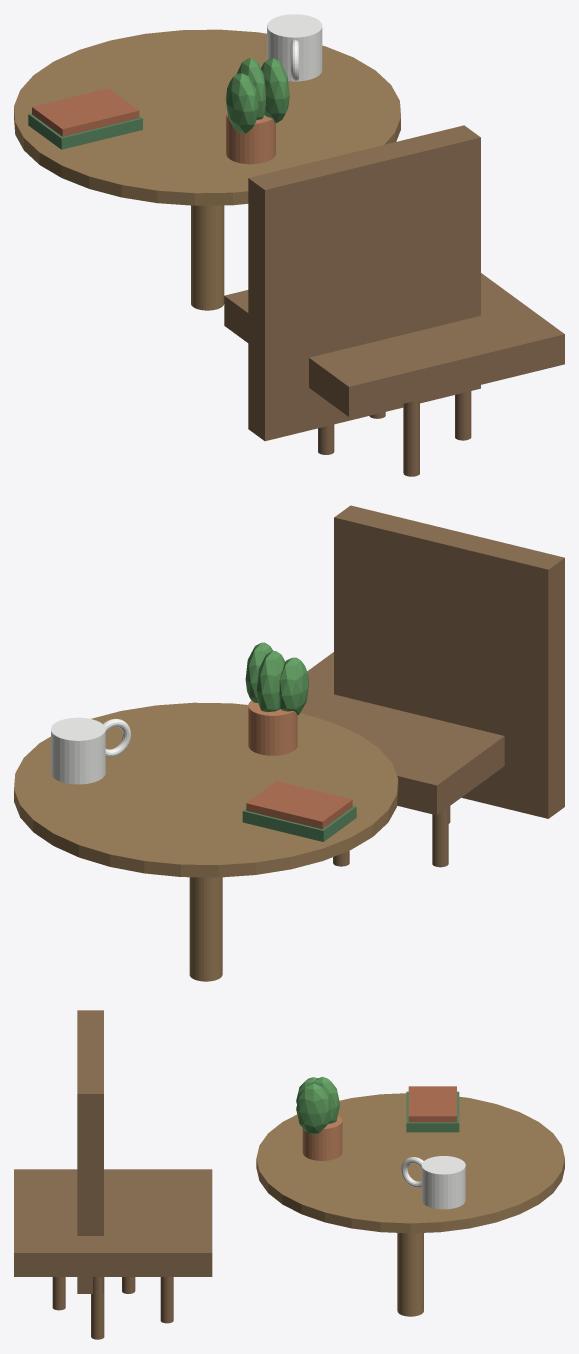
Rendered from DiningSet.glb.
3 renders of one model, top to bottom at view 1: azimuth 30°, elevation 25°; view 2: azimuth 150°, elevation 25°; view 3: azimuth 270°, elevation 25°, orthographic. The views are drawn at different scales.
Visible parts, largest first — view 1: ChairBack, TableTop, ChairSeat, TableLeg, Book2, Cup, Pot, Leaf3, Book1, Leaf2, ChairLeg2, ChairLeg4 (+1 smaller); view 2: ChairBack, TableTop, ChairSeat, TableLeg, Cup, Book2, Pot, Book1, Leaf3, Leaf1, ChairLeg1, Leaf2; view 3: TableTop, ChairSeat, ChairBack, Cup, TableLeg, Book2, Leaf2, Pot, ChairLeg4, Book1, ChairLeg3, Leaf1 (+1 smaller).
Boxes of the visible parts, bbox=[...] form: ChairBack: bbox=[248, 125, 480, 441]; TableTop: bbox=[14, 29, 400, 205]; ChairSeat: bbox=[224, 273, 564, 416]; TableLeg: bbox=[191, 205, 224, 310]; Book2: bbox=[32, 88, 139, 136]; Cup: bbox=[267, 14, 322, 81]; Pot: bbox=[226, 111, 275, 164]; Leaf3: bbox=[225, 73, 258, 133]; Book1: bbox=[28, 113, 142, 149]; Leaf2: bbox=[261, 58, 289, 123]; ChairLeg2: bbox=[403, 400, 419, 476]; ChairLeg4: bbox=[455, 391, 471, 440]; ChairBack: bbox=[334, 505, 564, 818]; TableTop: bbox=[14, 702, 398, 877]; ChairSeat: bbox=[300, 652, 504, 815]; TableLeg: bbox=[189, 877, 222, 981]; Cup: bbox=[51, 717, 105, 784]; Book2: bbox=[246, 781, 352, 829]; Pot: bbox=[248, 700, 297, 755]; Book1: bbox=[242, 806, 356, 841]; Leaf3: bbox=[279, 657, 308, 714]; Leaf1: bbox=[256, 650, 285, 711]; ChairLeg1: bbox=[432, 807, 448, 867]; Leaf2: bbox=[245, 642, 272, 702]; TableTop: bbox=[256, 1093, 564, 1233]; ChairSeat: bbox=[14, 1169, 212, 1276]; ChairBack: bbox=[77, 1010, 103, 1293]; Cup: bbox=[421, 1156, 465, 1209]; TableLeg: bbox=[397, 1233, 423, 1316]; Book2: bbox=[408, 1086, 456, 1122]; Leaf2: bbox=[296, 1083, 331, 1134]; Pot: bbox=[302, 1115, 342, 1160]; ChairLeg4: bbox=[91, 1277, 104, 1339]; Book1: bbox=[406, 1091, 459, 1132]; ChairLeg3: bbox=[160, 1277, 173, 1323]; Leaf1: bbox=[312, 1076, 339, 1123].
Size of the model in its own units: 1.4 by 1.23 by 2.5.
